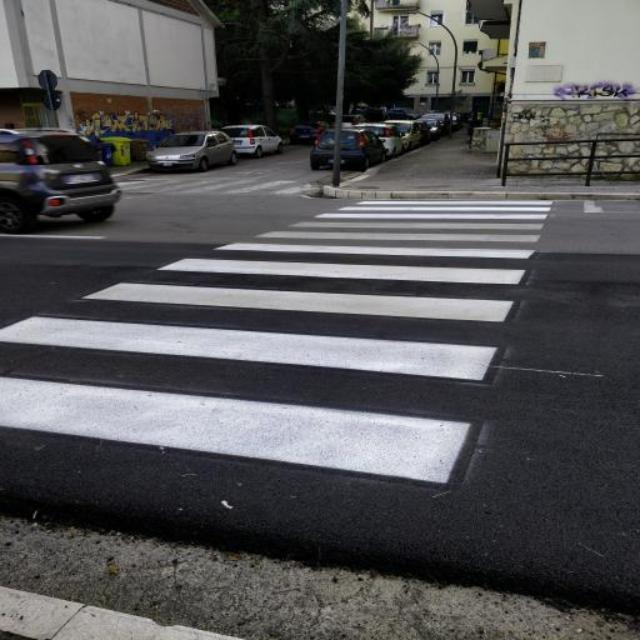sidewalk: (0, 200, 551, 483)
